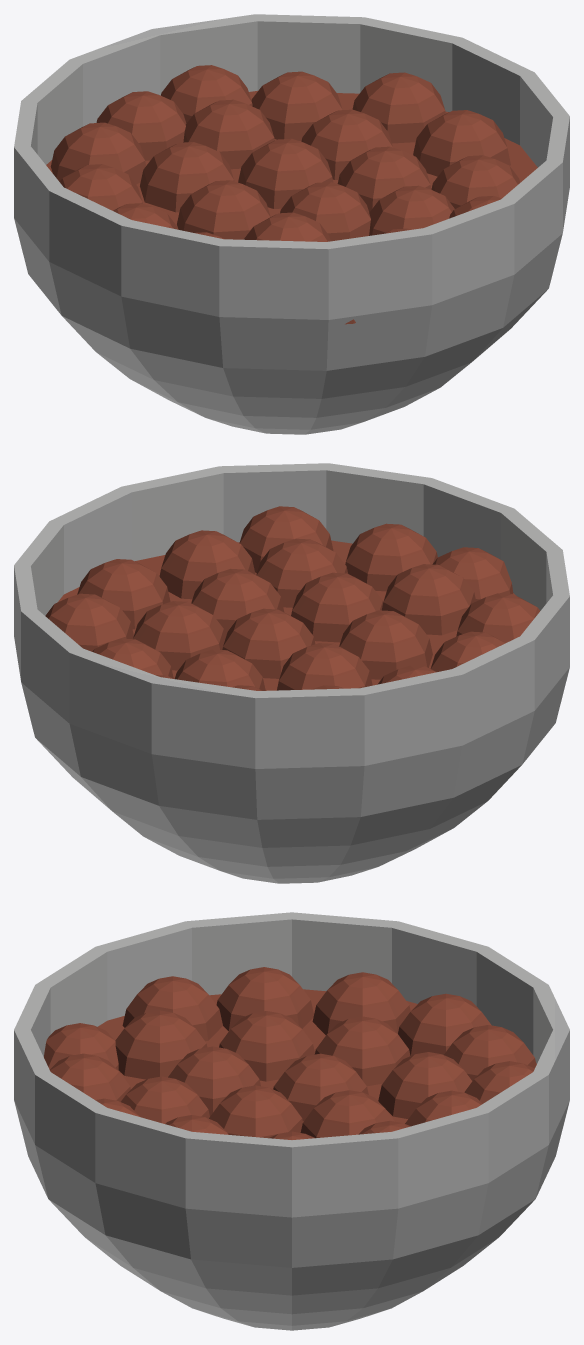
File: BitterballenKom.fbx
3 renders of one model, top to bottom at view 1: azimuth 30°, elevation 25°; view 2: azimuth 150°, elevation 25°; view 3: azimuth 270°, elevation 25°, orthographic.
Visible parts, largest first — view 1: Cylinder; view 2: Cylinder; view 3: Cylinder.
Part boxes in pixels (x1,y1,x2,y2): Cylinder: (14, 14, 569, 434); Cylinder: (14, 463, 569, 883); Cylinder: (14, 912, 569, 1330).
Bounding box in the file's own units: 0.6 × 0.3094 × 0.6.
